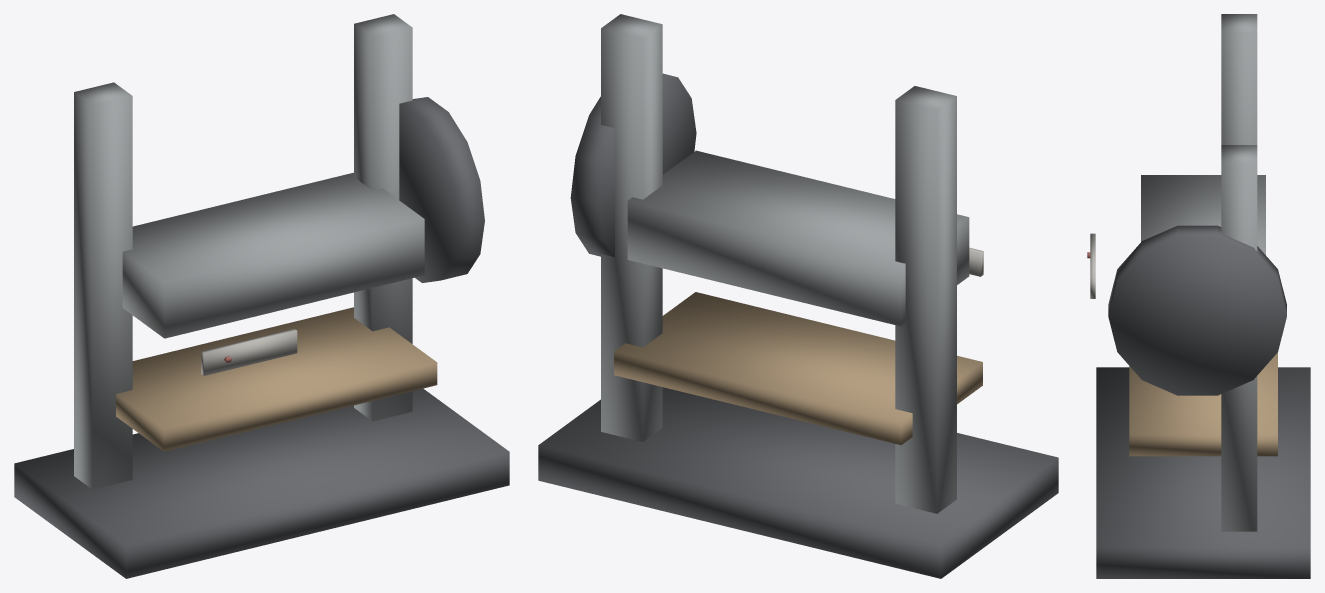
File: letterpress_silhouette__wide.glb
3 views of the same model, side by side, from view 1: azimuth 30°, elevation 25°; view 2: azimuth 150°, elevation 25°; view 3: azimuth 270°, elevation 25° (orthographic). The views are drawn at different scales.
Parts seen in each view (by area): view 1: world; view 2: world; view 3: world.
Boxes of the visible parts, x1,y1,x2,y2 form: world: [14, 14, 509, 578]; world: [538, 14, 1058, 578]; world: [1087, 14, 1310, 578].
Bounding box in the file's own units: 1.43 × 1.49 × 0.751.
